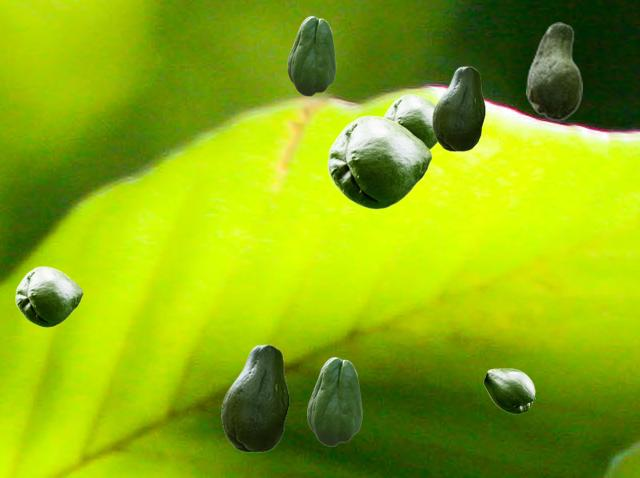sayote: (327, 115, 431, 208), (221, 344, 288, 451), (526, 22, 581, 120), (307, 357, 361, 445), (432, 66, 484, 150), (15, 266, 82, 326), (287, 16, 335, 95), (383, 94, 437, 149), (483, 368, 534, 413)
